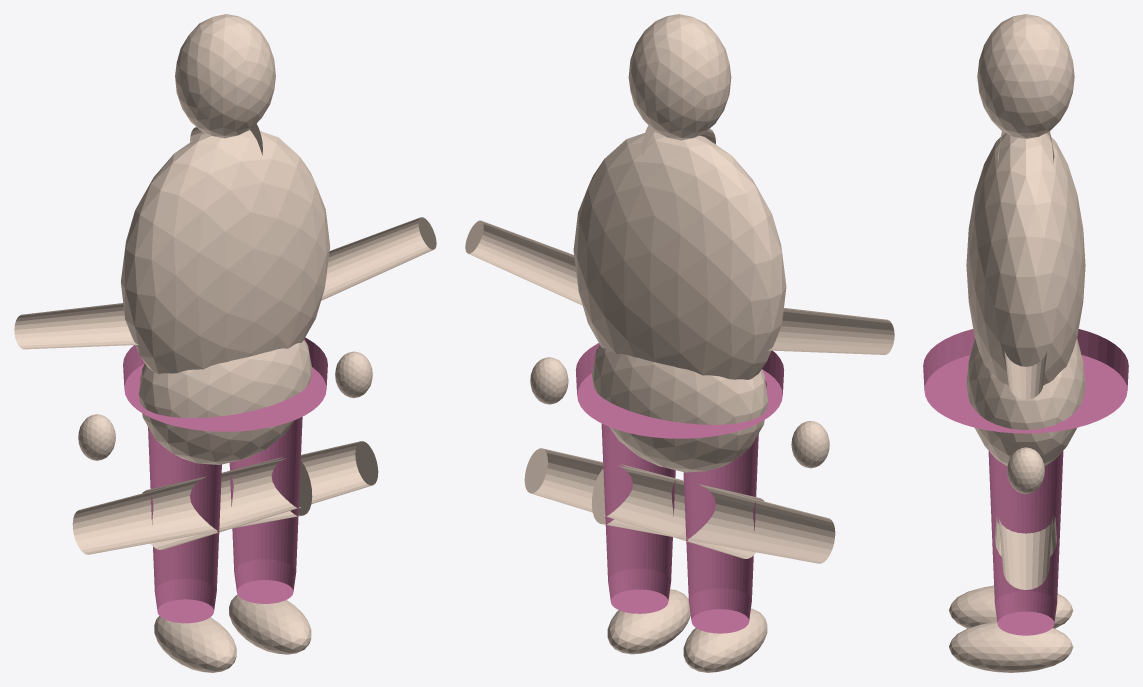
File: masculino-jeans.glb
3 renders of one model, left to right at view 1: azimuth 30°, elevation 25°; view 2: azimuth 150°, elevation 25°; view 3: azimuth 270°, elevation 25°, orthographic.
Parts seen in each view (by area): view 1: Avatar0, Prenda, Avatar1, Avatar3, Avatar4, Avatar8, Avatar10, Avatar6, Avatar9, Avatar5, Avatar7, Avatar11; view 2: Avatar0, Prenda, Avatar1, Avatar3, Avatar4, Avatar8, Avatar10, Avatar6, Avatar9, Avatar5, Avatar11, Avatar7; view 3: Avatar0, Prenda, Avatar3, Avatar1, Avatar9, Avatar8, Avatar5, Avatar11, Avatar10, Avatar4.
Boxes of the visible parts, x1,y1,x2,y2 form: Avatar0: (121, 130, 330, 373); Prenda: (123, 337, 327, 623); Avatar1: (138, 339, 312, 464); Avatar3: (175, 14, 275, 138); Avatar4: (72, 456, 312, 554); Avatar8: (142, 441, 378, 549); Avatar10: (321, 217, 436, 300); Avatar6: (14, 303, 138, 349); Avatar9: (229, 594, 311, 654); Avatar5: (154, 616, 236, 672); Avatar7: (78, 414, 115, 460); Avatar11: (335, 351, 372, 398); Avatar0: (573, 132, 786, 379); Prenda: (575, 343, 784, 633); Avatar1: (592, 345, 767, 472); Avatar3: (628, 14, 731, 140); Avatar4: (591, 464, 835, 563); Avatar8: (524, 448, 764, 558); Avatar10: (465, 220, 582, 305); Avatar6: (767, 308, 894, 354); Avatar9: (607, 589, 690, 654); Avatar5: (683, 608, 767, 672); Avatar11: (530, 357, 568, 404); Avatar7: (791, 421, 829, 468); Avatar0: (966, 133, 1085, 385); Prenda: (923, 329, 1128, 635); Avatar3: (977, 14, 1074, 138); Avatar1: (966, 338, 1085, 466); Avatar9: (949, 622, 1073, 672); Avatar8: (998, 516, 1053, 589); Avatar5: (949, 585, 1073, 628); Avatar11: (1007, 447, 1044, 493); Avatar10: (1004, 351, 1047, 399); Avatar4: (995, 517, 1056, 556).
Size of the model in its own units: 1.75 by 2.58 by 0.76.
